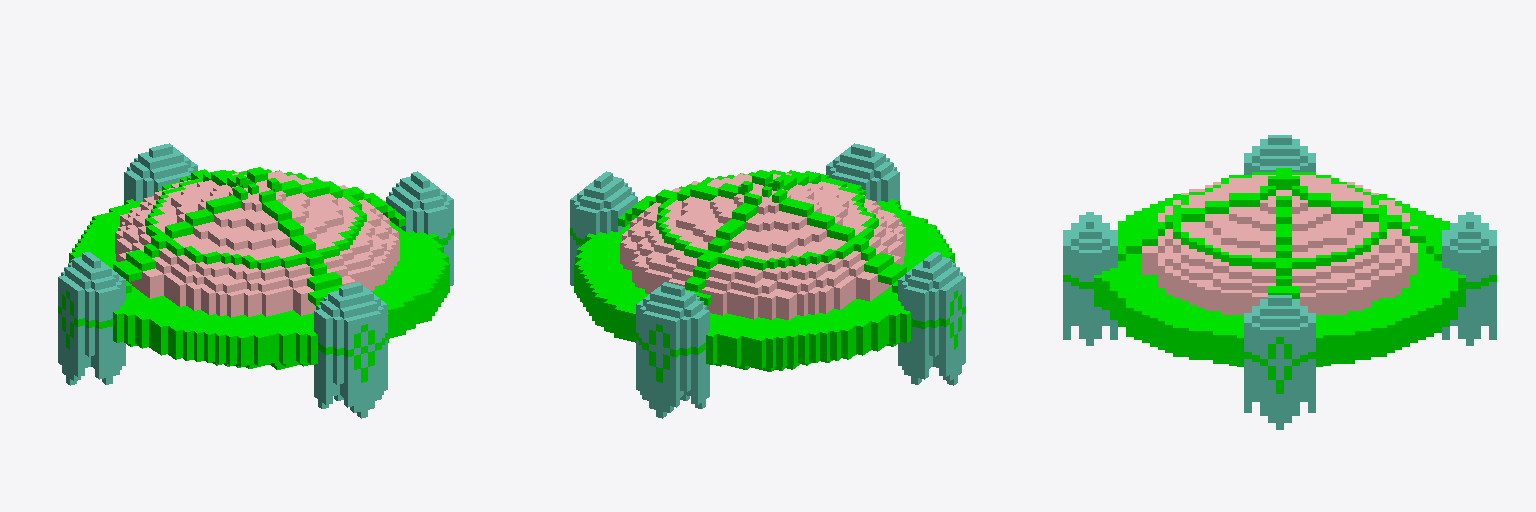
3 renders of one model, left to right at view 1: azimuth 30°, elevation 25°; view 2: azimuth 150°, elevation 25°; view 3: azimuth 270°, elevation 25°, orthographic.
Bounding box in the file's own units: 55 × 23 × 55.
1 materials, 1 textured.